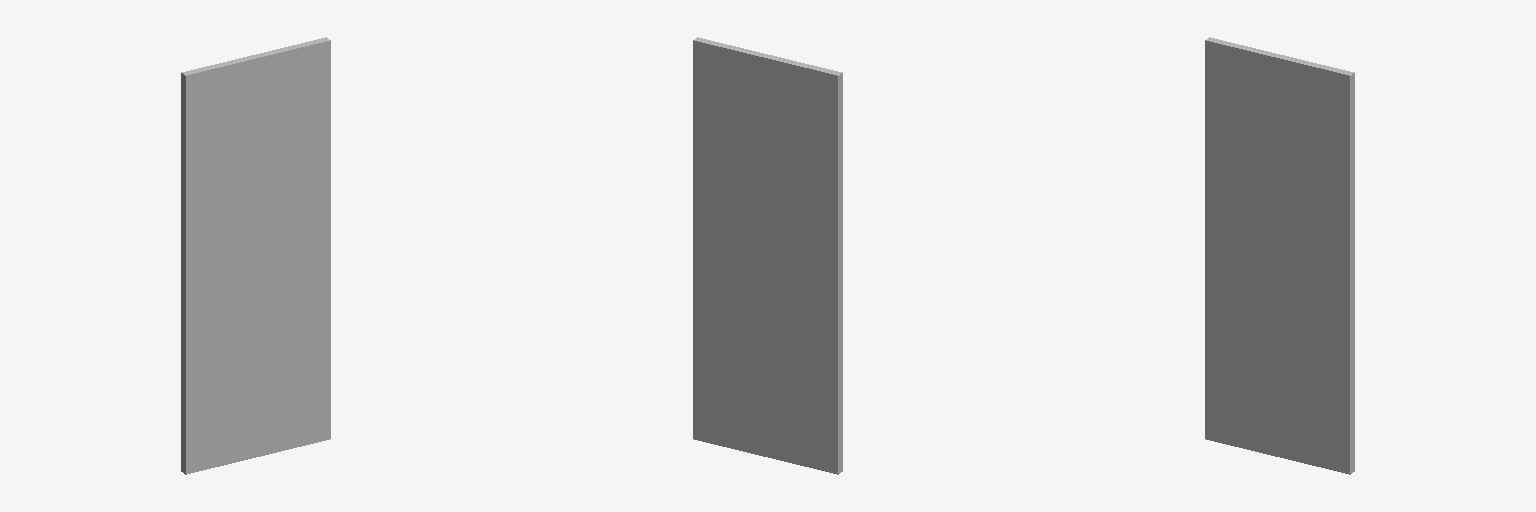
The model's file is original-5.obj.
The picture shows the model from 3 angles: view 1: azimuth 30°, elevation 25°; view 2: azimuth 150°, elevation 25°; view 3: azimuth 330°, elevation 25°; orthographic projection.
Size of the model in its own units: 0.2557 by 0.673 by 0.0132.